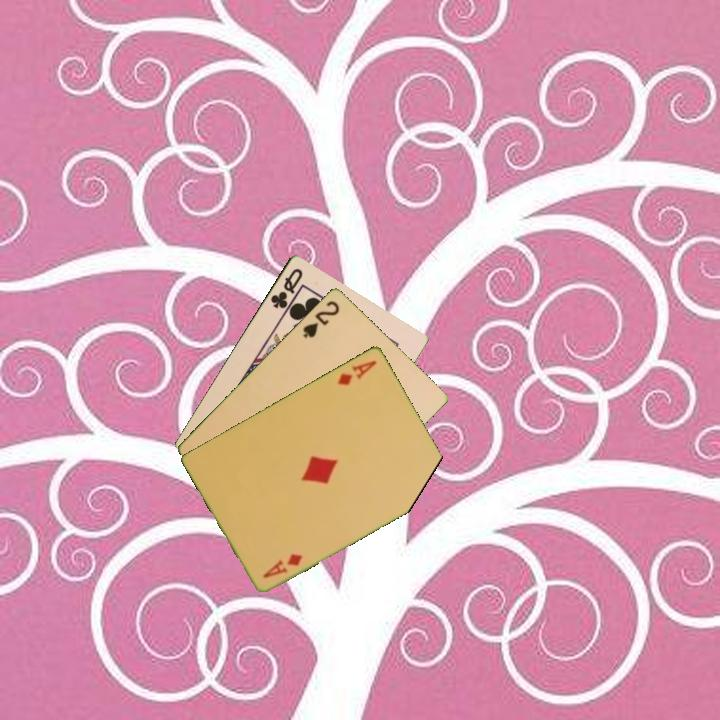2s: (299, 297, 342, 341)
Ad: (259, 549, 306, 581), (334, 356, 380, 388)
Qc: (267, 264, 306, 311)
